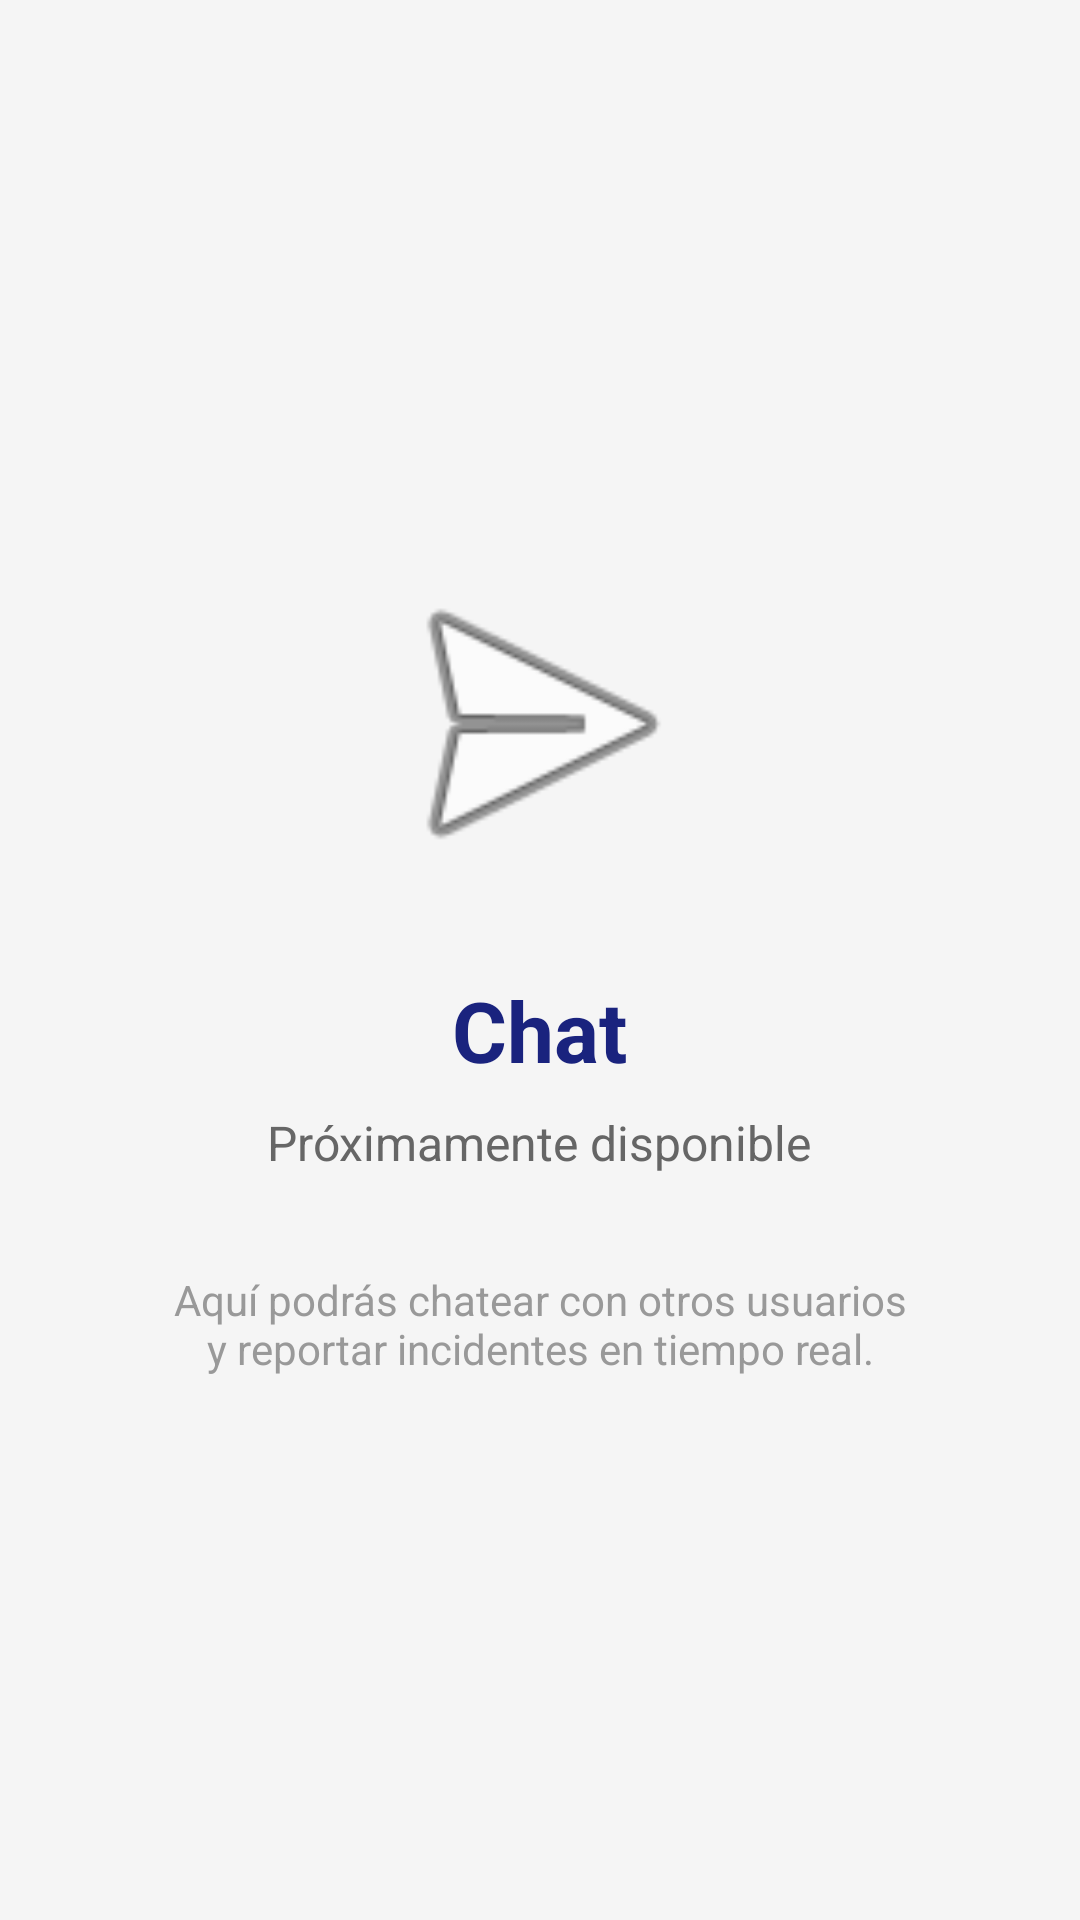

Where icons sit on this 1080 × 1920 app screen, as [x1,y1,x2,y2]:
send: [428,610,659,838]
